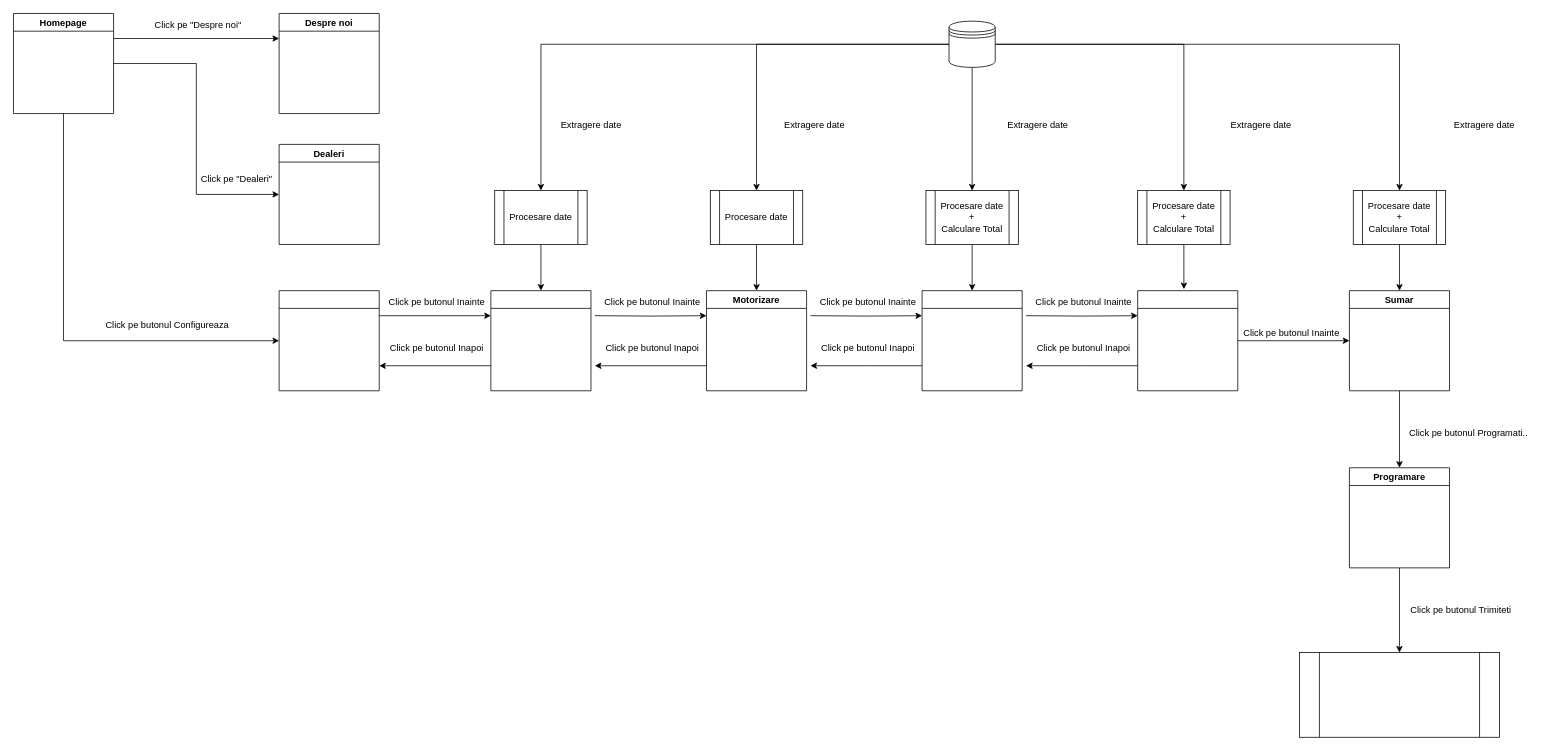
Some shapes in this 1552 by 751 pixel diagram are drawn without their labels. The shapes that lost their labels are listed below. From the top down, each one's centre as x and y in pixels, then its label:
At pixel 971 43: "Baza de date".
At pixel 328 340: "Modele".
At pixel 540 340: "Echipare".
At pixel 971 340: "Culoare".
At pixel 1187 340: "Optiuni".
At pixel 1399 694: "Trimitere mail + Actulaizare baza de date".
